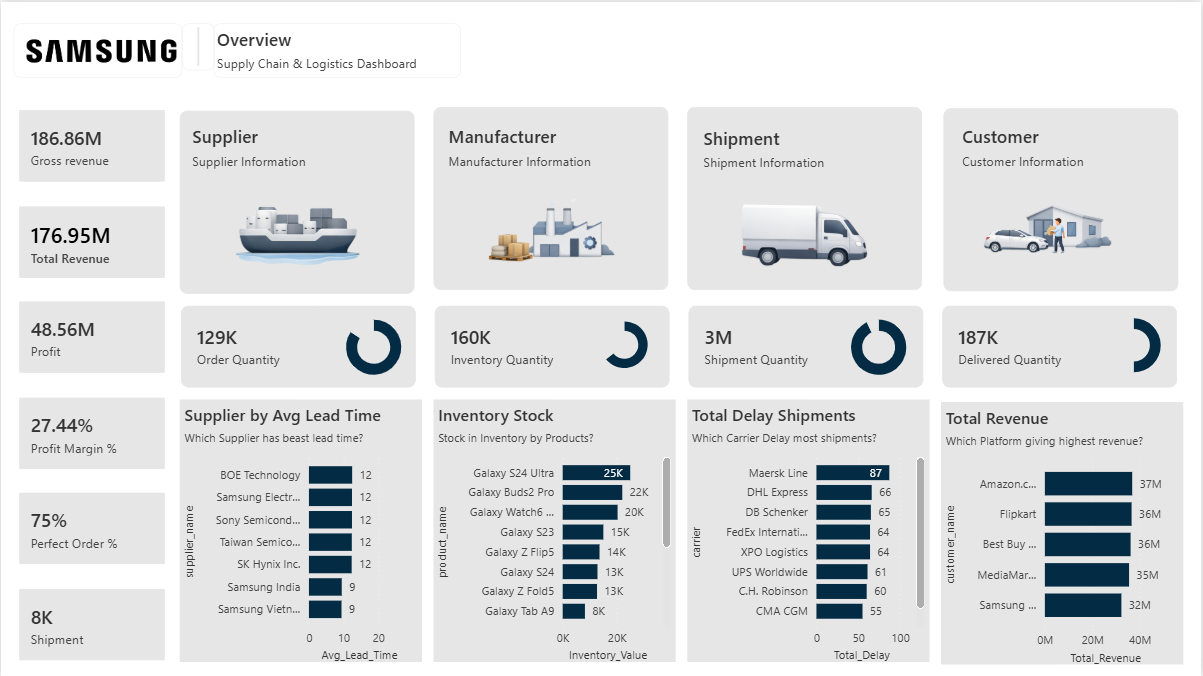

What the dashboard file says about the page in this screenshot:
{"tool":"powerbi","page":{"name":"Overview","canvas":[1280,720],"ordinal":0},"visuals":[{"type":"shape","box":[191.1,115.4,250,195],"z":0},{"type":"shape","box":[461.6,112.6,250,195],"z":1000},{"type":"shape","box":[732.1,112.6,250,195],"z":2000},{"type":"shape","box":[1004.9,112.9,250.3,195.1],"z":3000},{"type":"image","box":[235.4,191.1,154.3,102.9],"z":4000},{"type":"image","box":[505.4,189.7,154.3,101.4],"z":5000},{"type":"image","box":[1042.6,189.7,154.3,101.4],"z":6000},{"type":"image","box":[776.9,192.6,154.3,101.4],"z":7000},{"type":"shape","title":"Supplier","box":[204,131.1,145.7,58.6],"z":12000},{"type":"shape","title":"Customer","box":[1025.4,131.1,145.7,58.6],"z":13000},{"type":"shape","title":"Shipment","box":[749.7,132.6,145.7,58.6],"z":14000},{"type":"shape","title":"Manufacturer","box":[476.9,131.1,174.3,58.6],"z":15000},{"type":"shape","title":"Overview","box":[227.1,22.3,264.3,58.6],"z":16000},{"type":"image","box":[12.9,22.9,180,58.6],"z":17000},{"type":"shape","box":[192.9,22.3,34.3,50],"z":18000},{"type":"cardVisual","fields":{"Data":["Sum(fact_sales.gross_revenue)"]},"box":[14,110.9,165,81],"z":19000},{"type":"cardVisual","fields":{"Data":["Measures_Table.Total_Revenue"]},"box":[14,212.9,165,81],"z":20000},{"type":"cardVisual","fields":{"Data":["Measures_Table.Profit"]},"box":[14,314.9,165,81],"z":21000},{"type":"cardVisual","fields":{"Data":["Measures_Table.Profit Margin %"]},"box":[14,416.9,165,81],"z":22000},{"type":"cardVisual","fields":{"Data":["Measures_Table.Perfect_Order %"]},"box":[14,518.9,165,81],"z":23000},{"type":"cardVisual","fields":{"Data":["Measures_Table.Total_Shipment"]},"box":[14,620.9,165,81],"z":24000},{"type":"shape","box":[192.3,323.7,250,87.1],"z":25000},{"type":"shape","box":[462.8,323.7,250,87.1],"z":26000},{"type":"shape","box":[733.2,323.7,250,87.1],"z":27000},{"type":"shape","box":[1003.7,323.7,250,87.1],"z":28000},{"type":"cardVisual","fields":{"Data":["Measures_Table.Order_QTY"]},"box":[192.3,323.7,150,80],"z":29000},{"type":"cardVisual","fields":{"Data":["Measures_Table.Inventory_Value"]},"box":[462.3,323.7,150,80],"z":30000},{"type":"cardVisual","fields":{"Data":["Measures_Table.Total_Shipmant_Quantity"]},"box":[733.7,323.7,150,80],"z":31000},{"type":"cardVisual","fields":{"Data":["Measures_Table.Total_Delivered_Quantity"]},"box":[1003.7,323.7,150,80],"z":32000},{"type":"clusteredBarChart","title":"Supplier by Avg Lead Time","fields":{"Y":["Measures_Table.Avg_Lead_Time"],"Category":["dim_supplier.supplier_name"]},"box":[191.1,424.6,258,280],"z":33000},{"type":"clusteredBarChart","title":"Inventory Stock","fields":{"Category":["dim_product.product_name"],"Y":["Measures_Table.Inventory_Value"]},"box":[461.1,424.6,258,280],"z":34000},{"type":"clusteredBarChart","title":"Total Delay Shipments","fields":{"Category":["fact_shipment.carrier"],"Y":["Measures_Table.Total_Delay"]},"box":[732.6,424.6,258,280],"z":35000},{"type":"clusteredBarChart","title":"Total Revenue ","fields":{"Y":["Measures_Table.Total_Revenue"],"Category":["dim_customer.customer_name"]},"box":[1002.6,426,258,280],"z":36000},{"type":"donutChart","fields":{"Y":["Measures_Table.Inventory_Value","Measures_Table.Safety_Stock"]},"box":[618.6,324.3,92.9,78.6],"z":37000},{"type":"donutChart","fields":{"Y":["Measures_Table.Total_Shipment","Measures_Table.Total_Delay"]},"box":[890,327.1,91.4,78.6],"z":38000},{"type":"donutChart","fields":{"Y":["Measures_Table.Total_Delivered_Quantity","Measures_Table.Total_QTY_Delay"]},"box":[1162.9,325.7,91.4,77.1],"z":39000},{"type":"donutChart","fields":{"Y":["Measures_Table.Order_QTY","Measures_Table.Defect_rate"]},"box":[351.4,327.1,91.4,78.6],"z":40000}]}

Visuals, with their boxes in screenshot pixels (x1, y1, x2, y2), scaled from the page's 1280x720 canvas onto the 1203x676 screenshot:
shape: Rect(180, 108, 415, 291)
shape: Rect(434, 106, 669, 289)
shape: Rect(688, 106, 923, 289)
shape: Rect(944, 106, 1180, 289)
image: Rect(221, 179, 366, 276)
image: Rect(475, 178, 620, 273)
image: Rect(980, 178, 1125, 273)
image: Rect(730, 181, 875, 276)
"Supplier" shape: Rect(192, 123, 329, 178)
"Customer" shape: Rect(964, 123, 1101, 178)
"Shipment" shape: Rect(705, 124, 842, 180)
"Manufacturer" shape: Rect(448, 123, 612, 178)
"Overview" shape: Rect(213, 21, 462, 76)
image: Rect(12, 22, 181, 77)
shape: Rect(181, 21, 214, 68)
cardVisual - Sum(fact_sales.gross_revenue): Rect(13, 104, 168, 180)
cardVisual - Measures_Table.Total_Revenue: Rect(13, 200, 168, 276)
cardVisual - Measures_Table.Profit: Rect(13, 296, 168, 372)
cardVisual - Measures_Table.Profit Margin %: Rect(13, 391, 168, 467)
cardVisual - Measures_Table.Perfect_Order %: Rect(13, 487, 168, 563)
cardVisual - Measures_Table.Total_Shipment: Rect(13, 583, 168, 659)
shape: Rect(181, 304, 416, 386)
shape: Rect(435, 304, 670, 386)
shape: Rect(689, 304, 924, 386)
shape: Rect(943, 304, 1178, 386)
cardVisual - Measures_Table.Order_QTY: Rect(181, 304, 322, 379)
cardVisual - Measures_Table.Inventory_Value: Rect(434, 304, 575, 379)
cardVisual - Measures_Table.Total_Shipmant_Quantity: Rect(690, 304, 831, 379)
cardVisual - Measures_Table.Total_Delivered_Quantity: Rect(943, 304, 1084, 379)
"Supplier by Avg Lead Time" clusteredBarChart: Rect(180, 399, 422, 662)
"Inventory Stock" clusteredBarChart: Rect(433, 399, 676, 662)
"Total Delay Shipments" clusteredBarChart: Rect(689, 399, 931, 662)
"Total Revenue " clusteredBarChart: Rect(942, 400, 1185, 663)
donutChart - Measures_Table.Inventory_Value x Measures_Table.Safety_Stock: Rect(581, 304, 669, 378)
donutChart - Measures_Table.Total_Shipment x Measures_Table.Total_Delay: Rect(836, 307, 922, 381)
donutChart - Measures_Table.Total_Delivered_Quantity x Measures_Table.Total_QTY_Delay: Rect(1093, 306, 1179, 378)
donutChart - Measures_Table.Order_QTY x Measures_Table.Defect_rate: Rect(330, 307, 416, 381)
